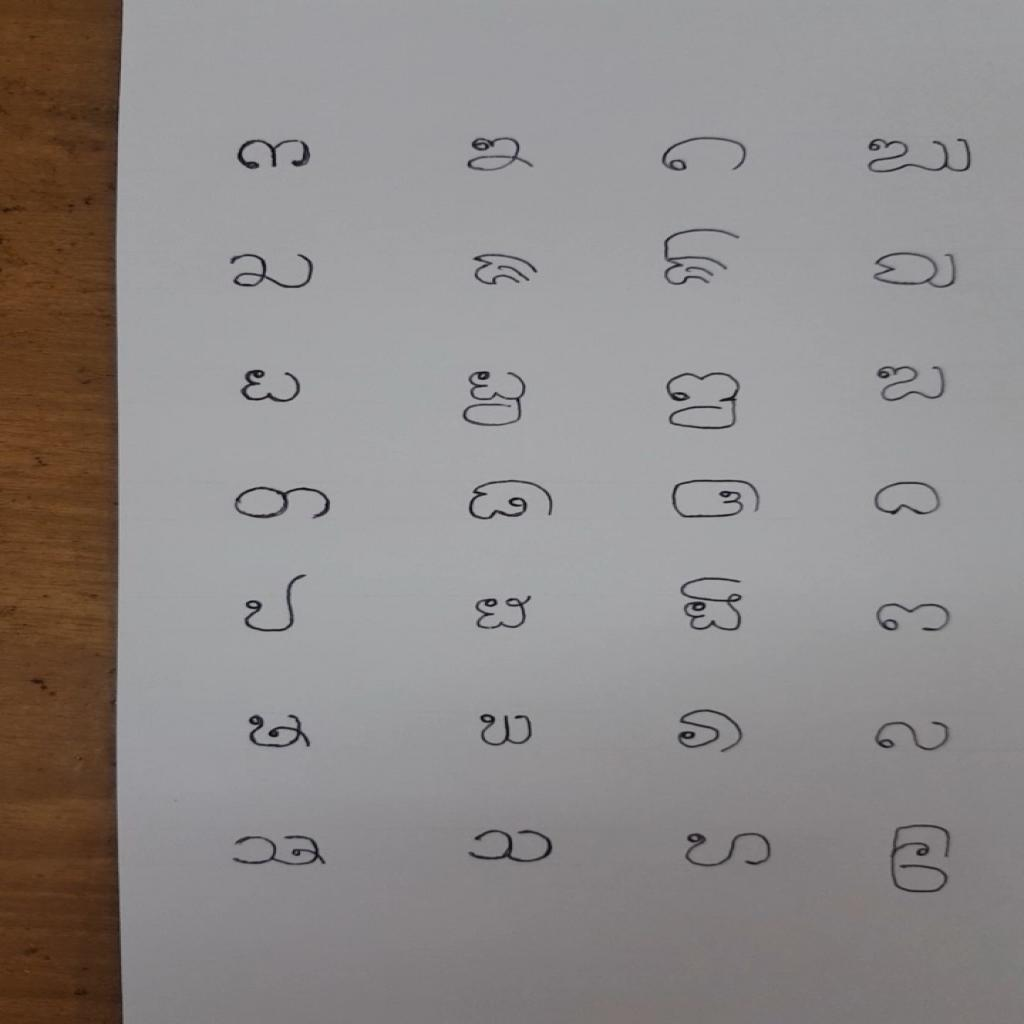LN001: (228, 136, 325, 177)
LN002: (461, 134, 544, 177)
LN003: (654, 133, 758, 179)
LN004: (858, 133, 985, 179)
LN007: (222, 248, 325, 296)
LN008: (463, 250, 549, 292)
LN009: (653, 225, 755, 293)
LN010: (865, 247, 968, 294)
LN013: (234, 364, 311, 408)
LN014: (456, 367, 535, 432)
LN015: (658, 369, 748, 434)
LN016: (870, 359, 957, 408)
LN019: (226, 482, 342, 526)
LN020: (462, 476, 565, 526)
LN021: (665, 475, 771, 525)
LN022: (868, 478, 950, 522)
LN025: (240, 570, 315, 638)
LN026: (467, 592, 542, 635)
LN027: (673, 574, 754, 638)
LN028: (868, 600, 961, 637)
LN031: (236, 710, 320, 753)
LN032: (471, 709, 543, 752)
LN033: (670, 705, 753, 758)
LN034: (868, 716, 960, 757)
LN037: (224, 830, 339, 873)
LN038: (460, 823, 564, 870)
LN039: (678, 829, 784, 873)
LN040: (885, 821, 962, 899)
